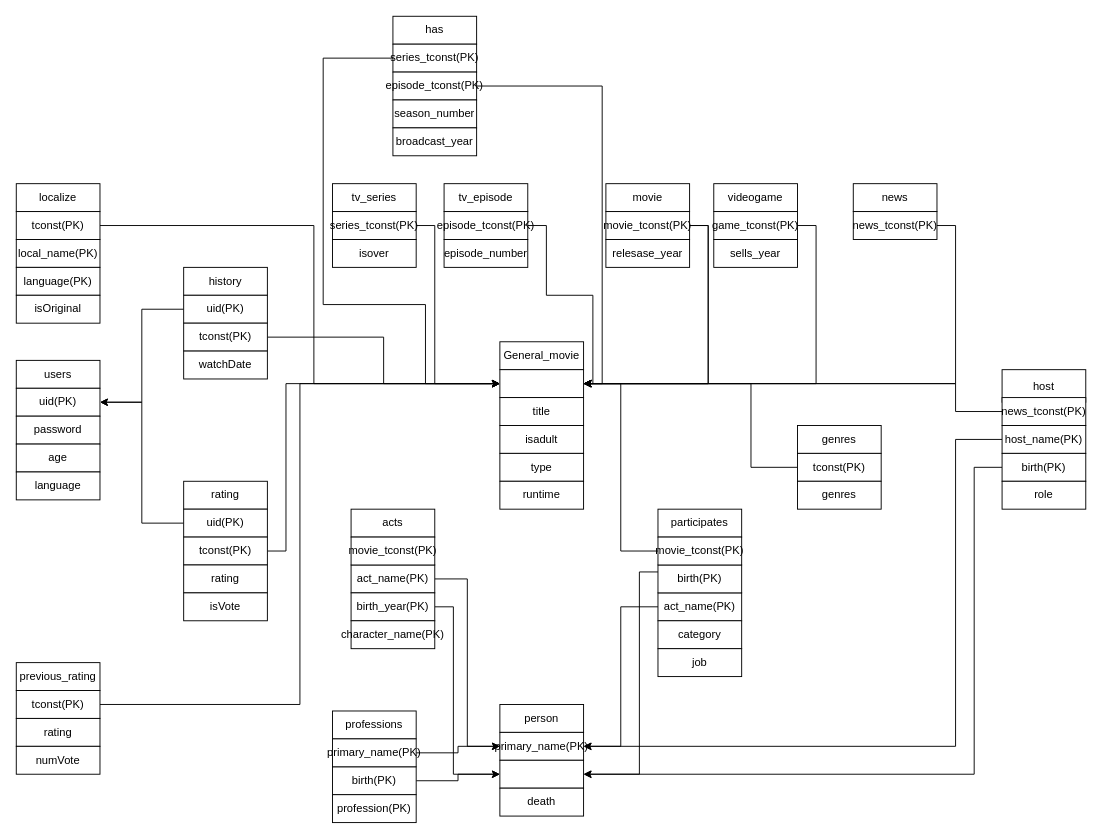
Some shapes in this 1102 by 839 pixel diagram are drawn without their labels. Here are the shapes that lost their labels. From the top down, the centre of each, then its label:
(541,383): tsonst(PK)
(541,773): birth
